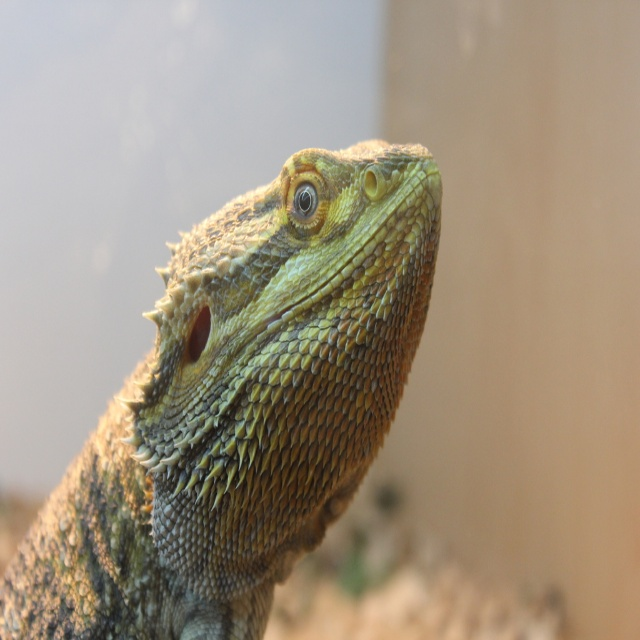Lizard: (56, 134, 447, 640)
